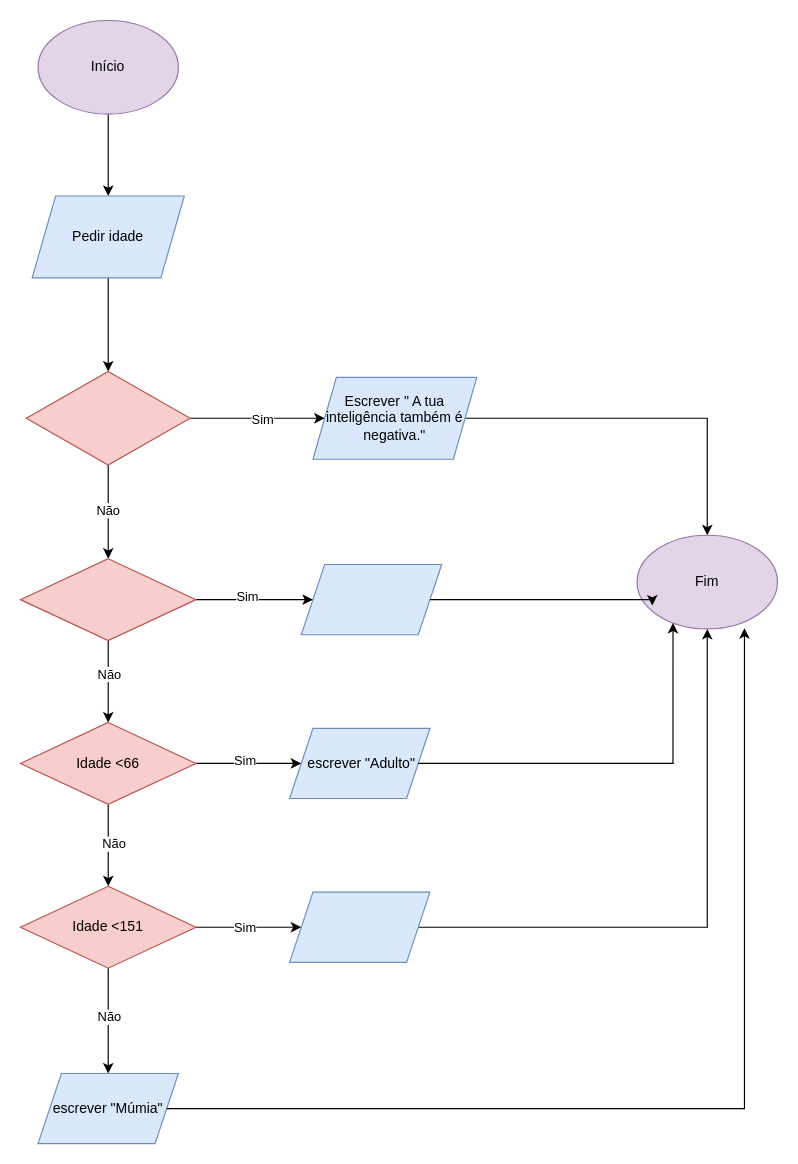
Some shapes in this 798 by 1164 pixel diagram are drawn without their labels. The centre of each missing label's shape, as x and y in pixels:
escrever "Puto": the point at 371,599
escrever "Velhinho": the point at 359,926
Idade <18: the point at 107,599
Idade<0: the point at 107,417
